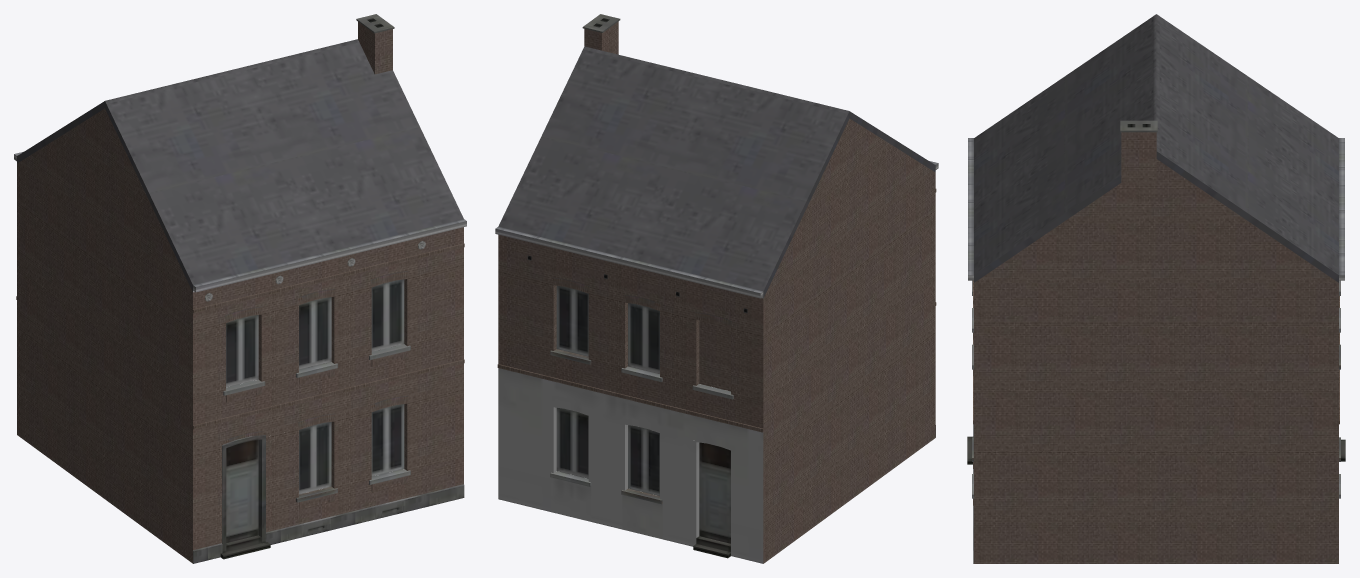
The picture shows the model from 3 angles, left to right: view 1: azimuth 30°, elevation 25°; view 2: azimuth 150°, elevation 25°; view 3: azimuth 270°, elevation 25°; orthographic projection. The views are drawn at different scales.
Visible parts, largest first — view 1: 2_main_0; view 2: 2_main_0; view 3: 2_main_0.
Boxes of the visible parts, <box> form: 2_main_0: <box>14,14,466,563</box>; 2_main_0: <box>495,14,938,563</box>; 2_main_0: <box>967,14,1345,563</box>.
Bounding box in the file's own units: 8.03 × 11.81 × 9.33.
1 material, 1 textured.
